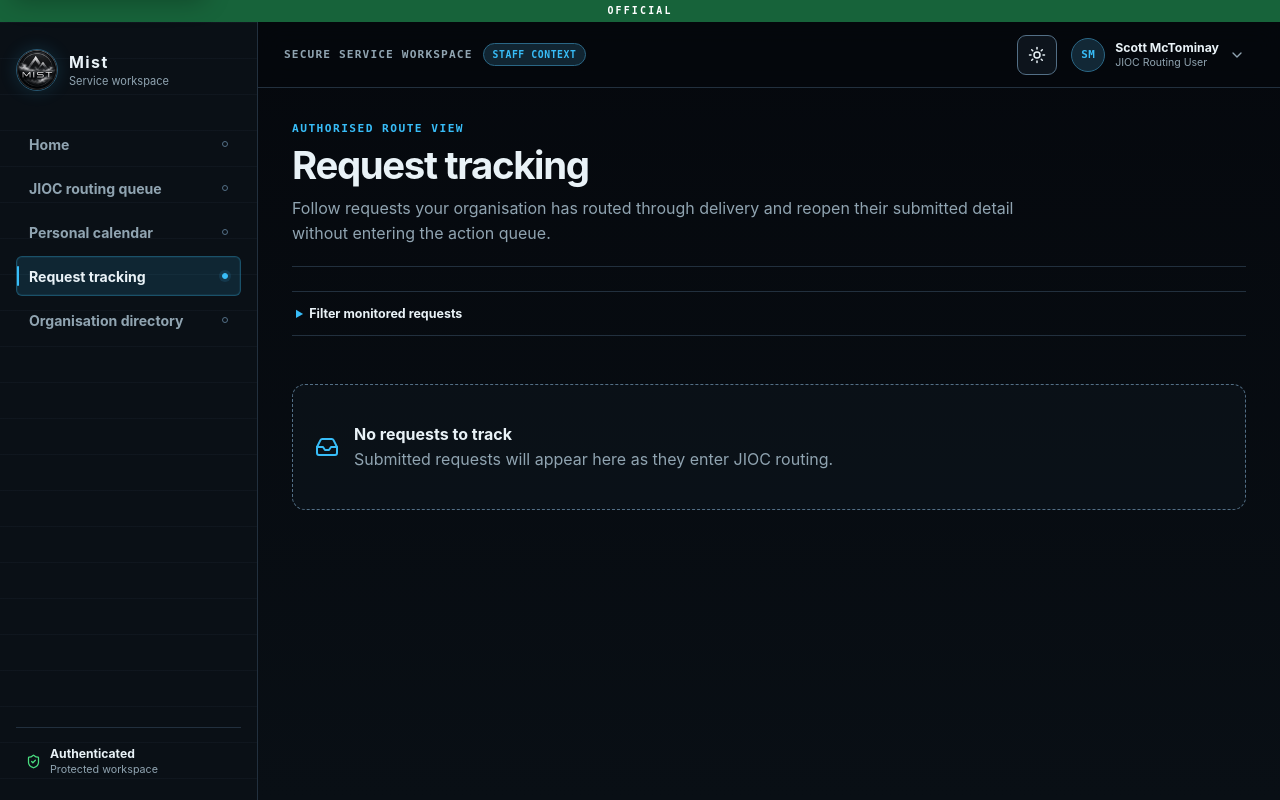
Test: Customer and staff context switching › refreshes the authoritative session and reports a failed switch
Expected: the heading "Request tracking" is shown, [292, 142, 589, 188]
Click the button with aria-label "Open account menu": x=1160, y=54 [1065, 32, 1254, 76]
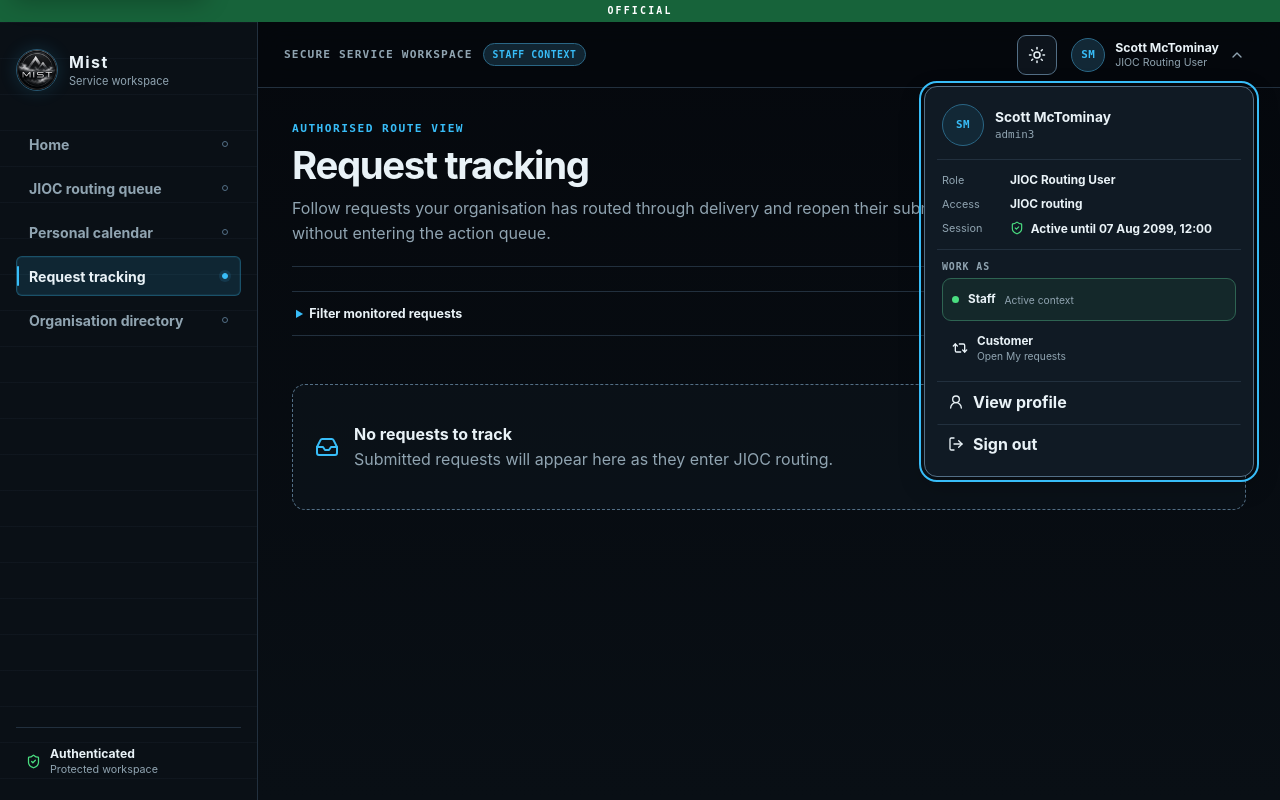
Click the button with aria-label "Switch to Customer context": x=1005, y=341 [942, 326, 1236, 370]
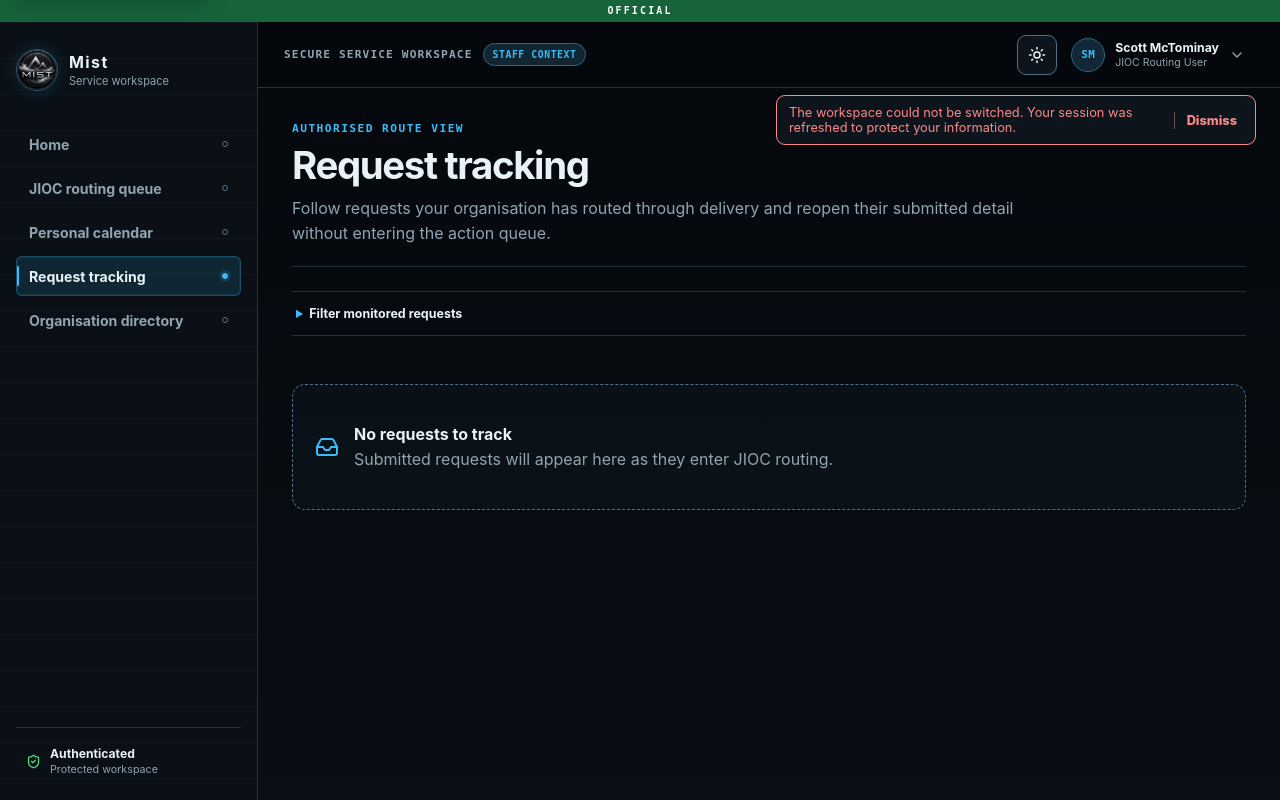
Expected: the heading "Request tracking" is shown, [292, 142, 589, 188]
Now the message shows "workspace could not be switched", box [789, 105, 1132, 135]
Click the button "Dismiss": x=1208, y=120 [1174, 112, 1243, 128]
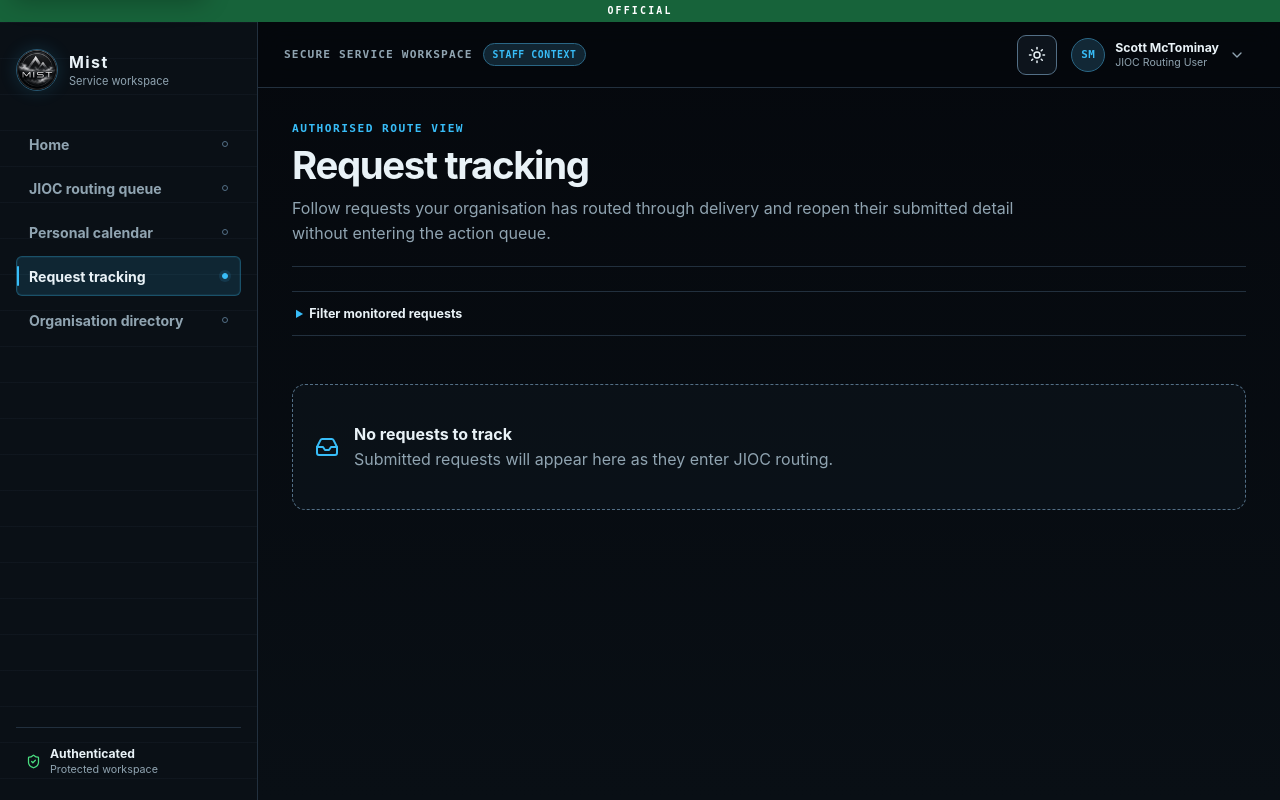
Now the message "The workspace could not be switched. Your session was refreshed to protect your" is gone
